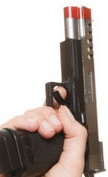pistol: (1, 3, 108, 177)
